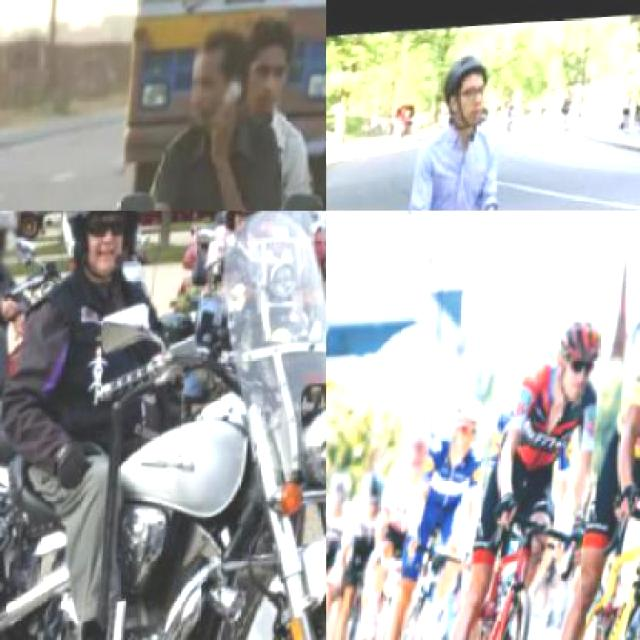With Helmet: (51, 211, 155, 295), (553, 314, 607, 426), (437, 52, 497, 140), (447, 391, 490, 464), (358, 464, 396, 528), (403, 430, 435, 495), (0, 211, 25, 283), (217, 211, 268, 243), (328, 468, 357, 518)
Without Helmet: (191, 22, 260, 142), (244, 10, 301, 130)
